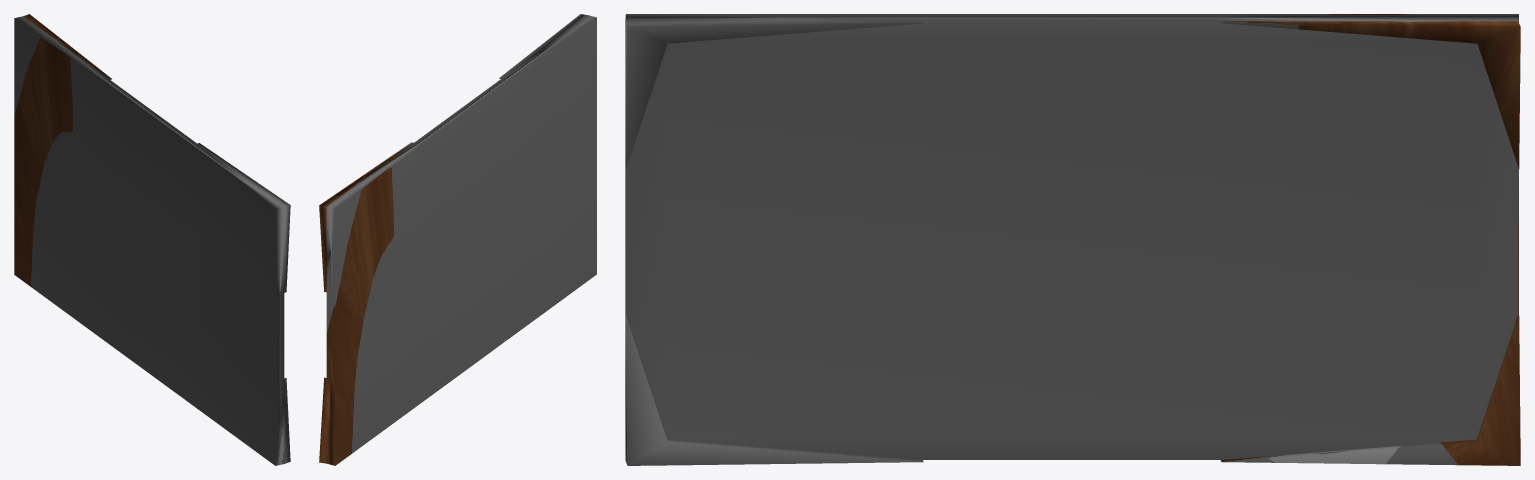
File: Quadro.fbx
3 renders of one model, left to right at view 1: azimuth 30°, elevation 25°; view 2: azimuth 150°, elevation 25°; view 3: azimuth 270°, elevation 25°, orthographic. The views are drawn at different scales.
Visible parts, largest first — view 1: pCube9; view 2: pCube9; view 3: pCube9.
Boxes of the visible parts, x1,y1,x2,y2 form: pCube9: (14,14,290,465); pCube9: (319,14,596,465); pCube9: (625,14,1520,465).
Size of the model in its own units: 0.4901 by 7.66 by 14.17.
